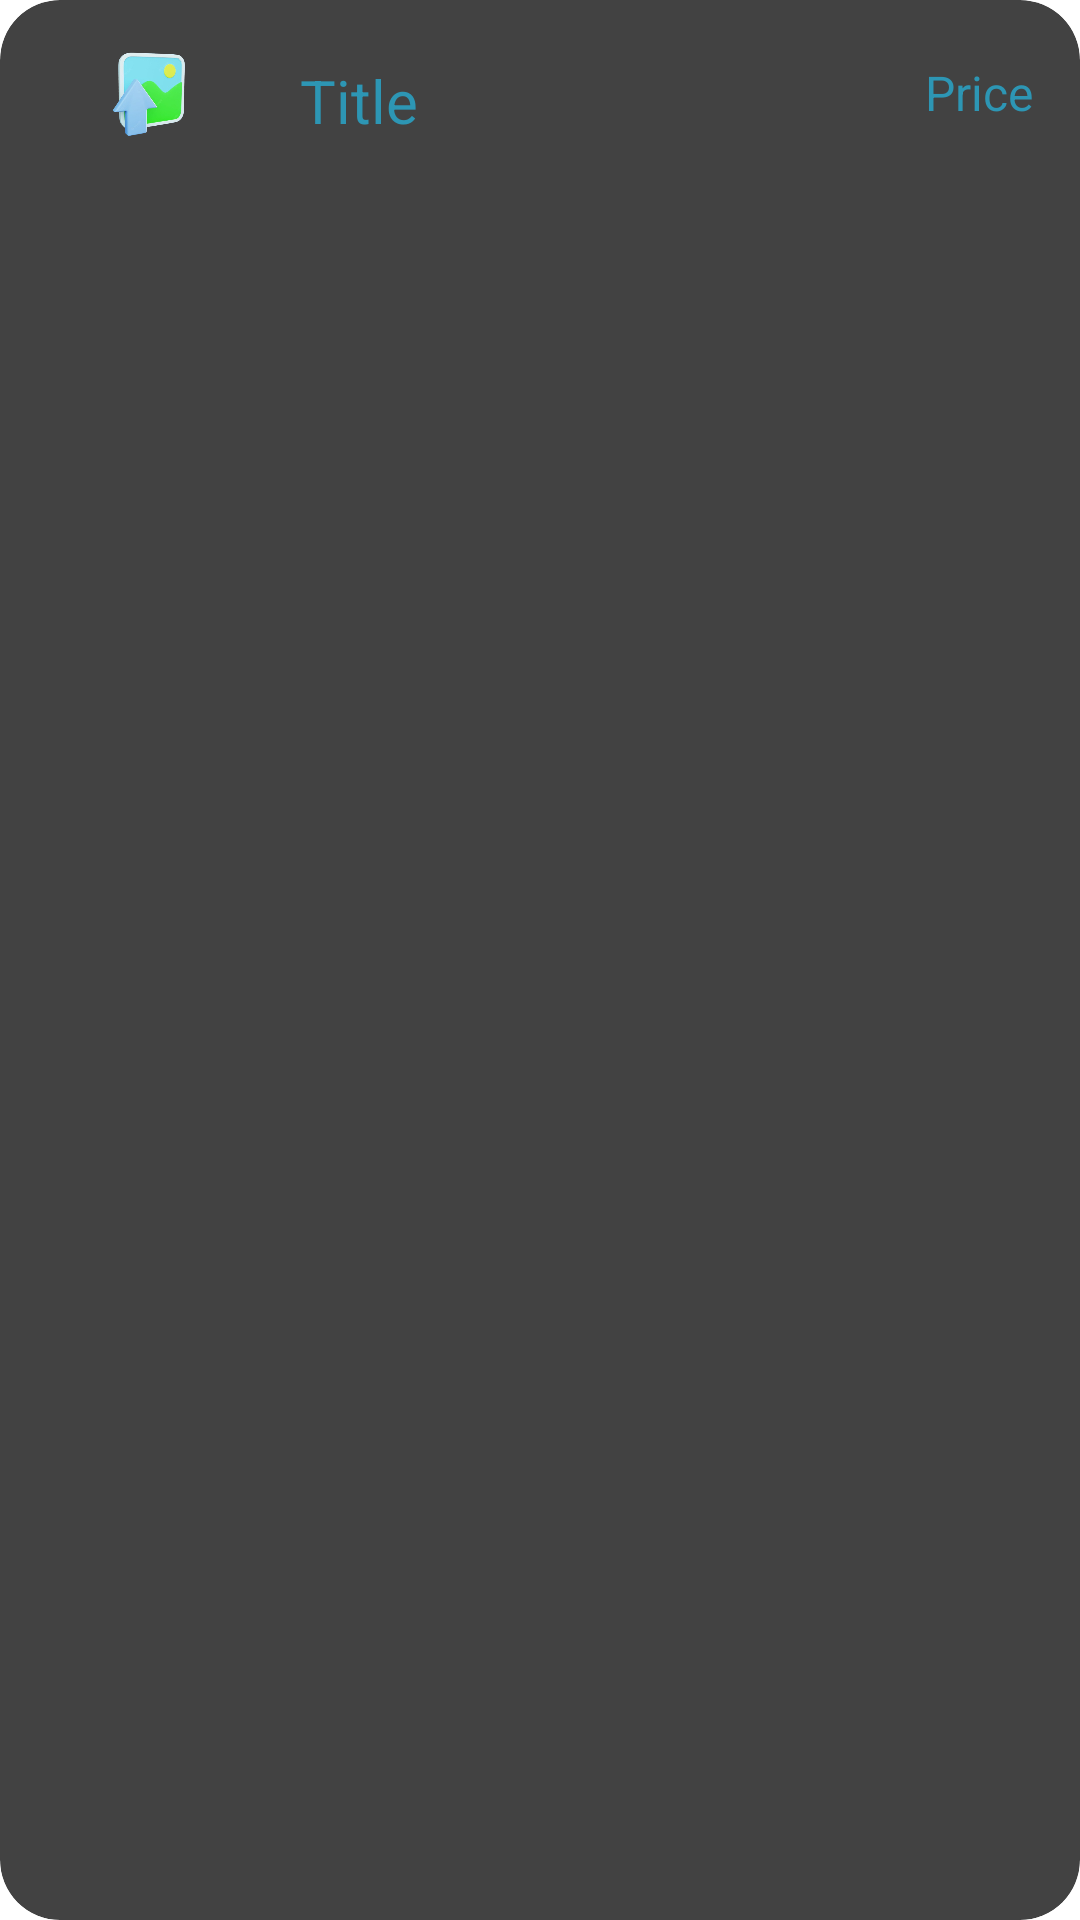

Locate icon controls on the screen. Image size 1080px×1920px, boxes as (x1, y1, x2, y2).
uploadimg: (113, 52, 185, 136)
